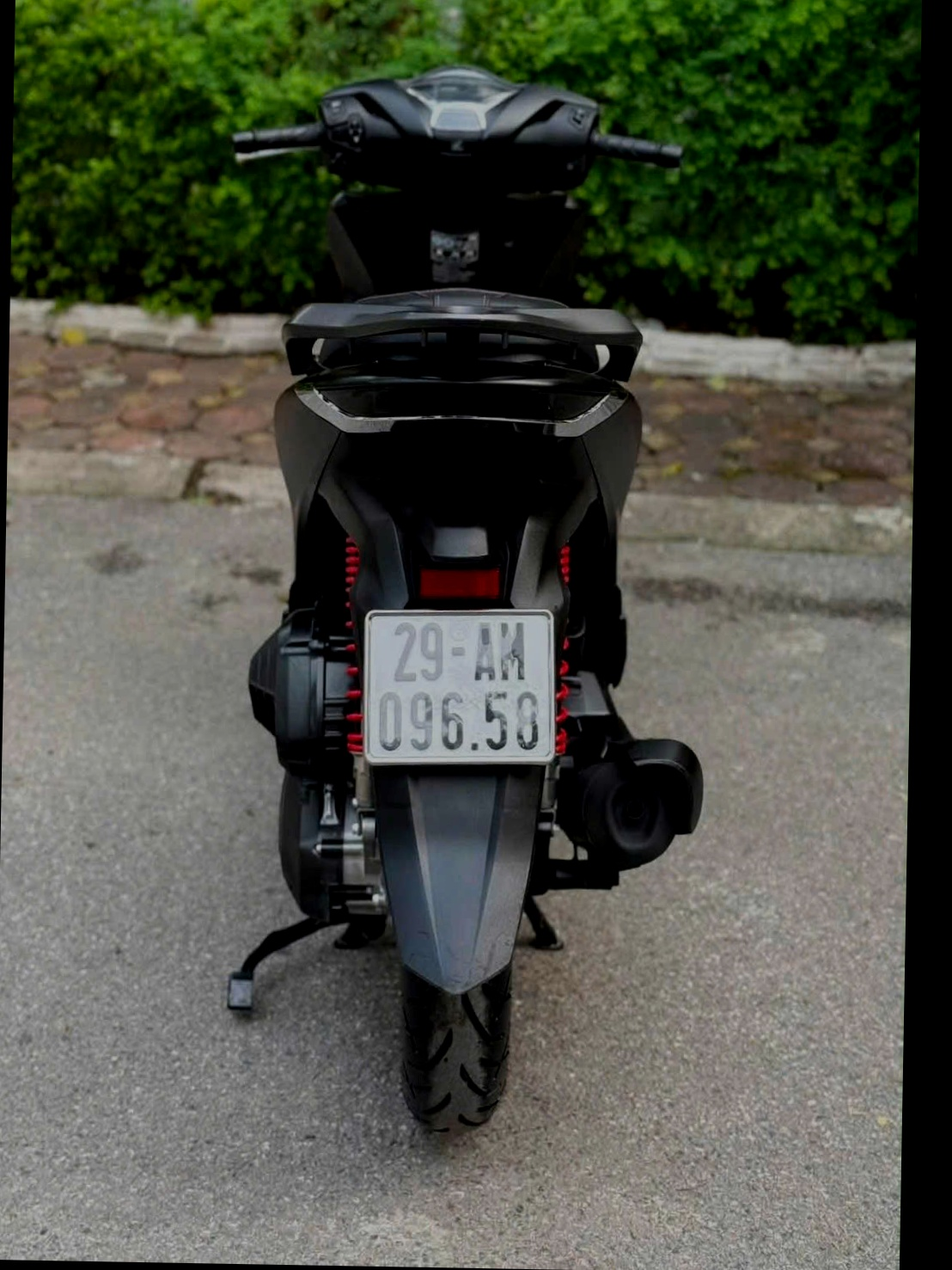Bien-so: (359, 604, 560, 775)
